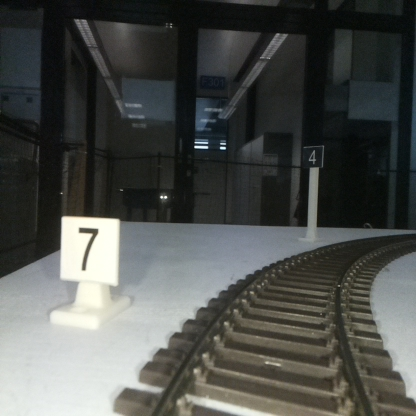white-stop-7: (61, 218, 118, 321)
